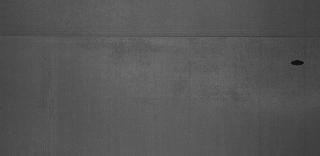punching hole: (290, 57, 310, 69)
welding line: (3, 31, 320, 43)
